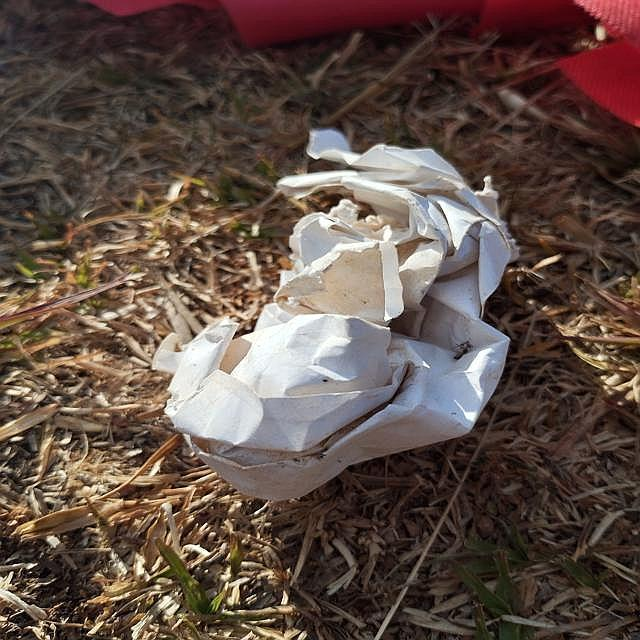Biodegradable: (139, 113, 612, 631)
